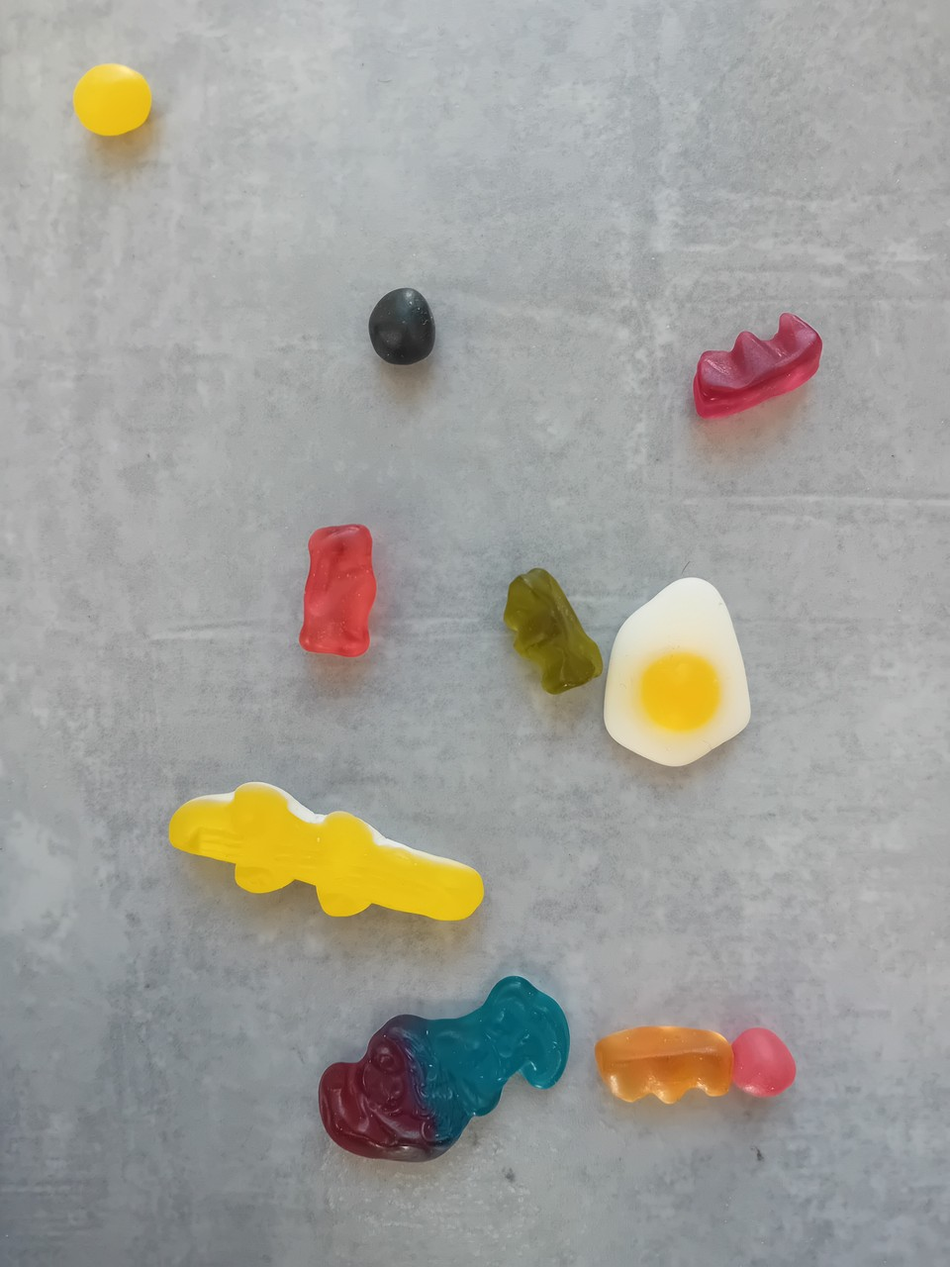crocodile_jaune: (160, 776, 491, 927)
dragibus_jaune: (61, 59, 158, 142)
dragibus_noir: (356, 283, 441, 374)
dragibus_rouge: (729, 1020, 802, 1103)
oeuf_oeuf: (597, 567, 766, 772)
ourson_orangeClair: (588, 1020, 736, 1110)
ourson_orangeFonce: (291, 518, 383, 664)
ourson_rouge: (682, 310, 831, 430)
ourson_vert: (495, 560, 605, 696)
schtroumpf_bleu-rouge: (311, 965, 579, 1170)
